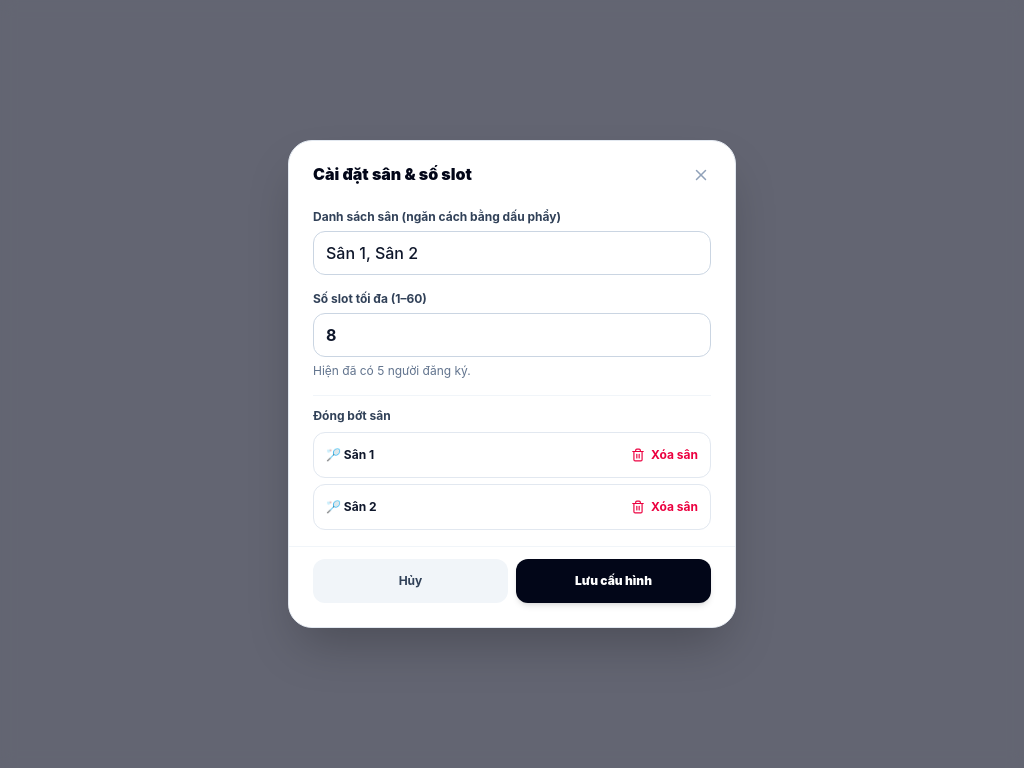
Test: CourtSettingsSheet - ô số slot › từ chối 816 và 0, báo lỗi ngay dưới ô
This screenshot has width=1024, height=768.
Step 1. Replace the text in the field labelled "Số slot tối đa (1–60)" with "816" → (512, 335), box [313,313,711,357]
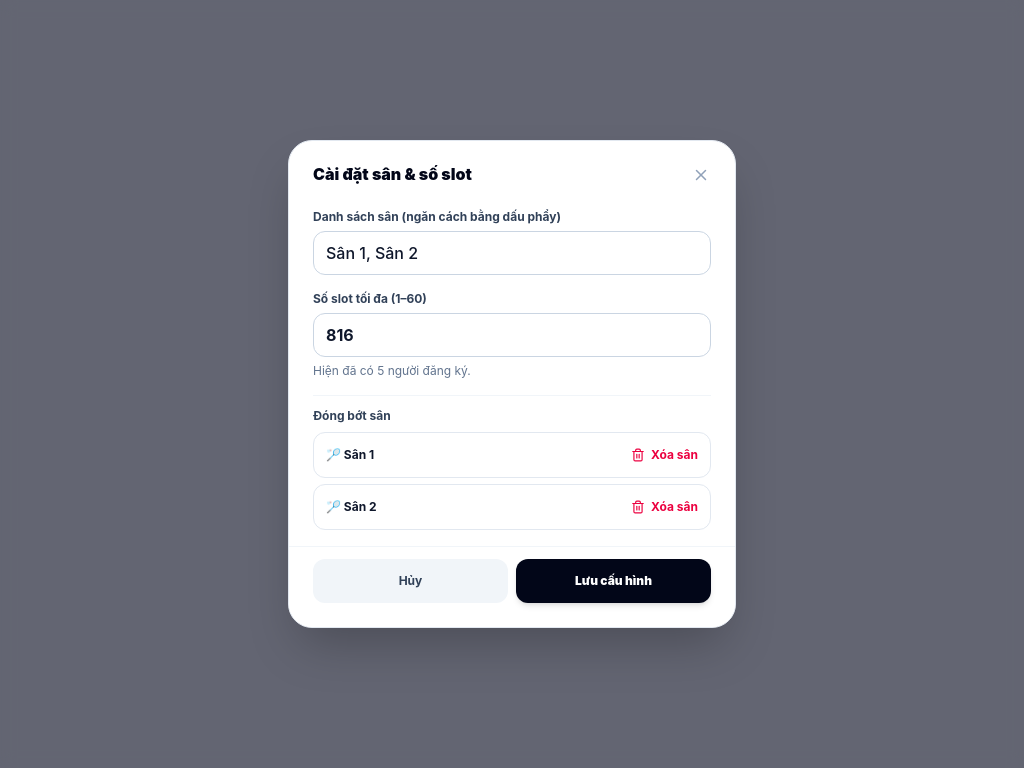
Step 2. Click the button "Lưu cấu hình" → click(614, 581), box [516,559,711,603]
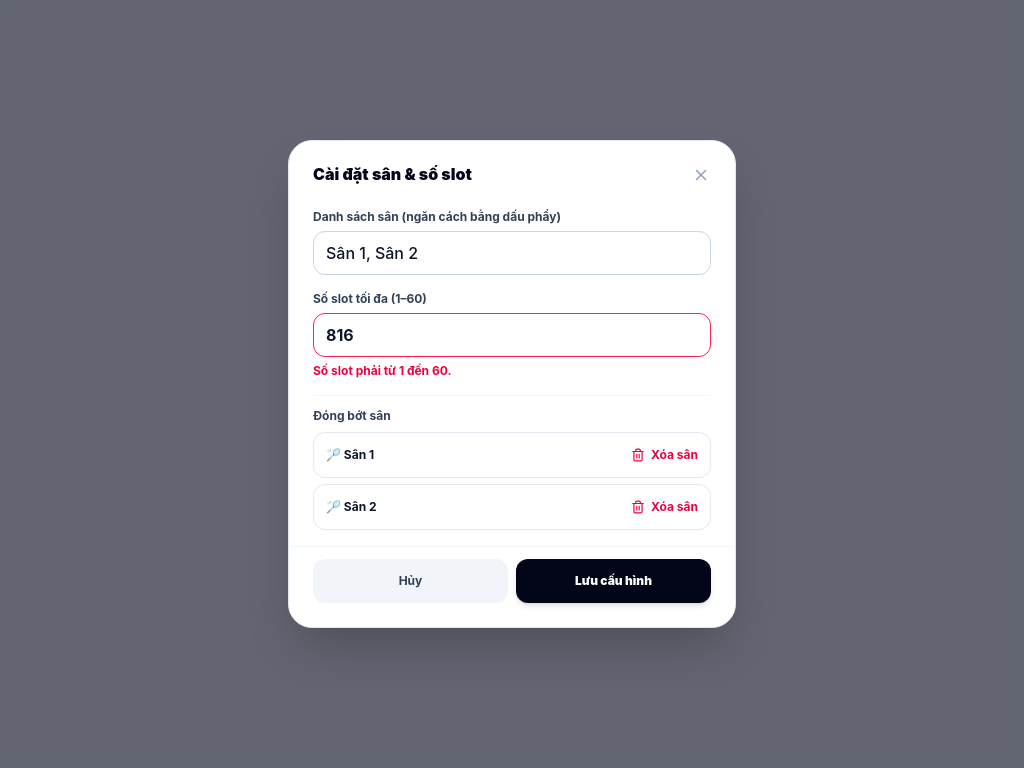
Result: the message reads "Số slot phải từ 1 đến 60." at [313,363,452,378]
Step 3. Replace the text in the field labelled "Số slot tối đa (1–60)" with "0" → (512, 335), box [313,313,711,357]
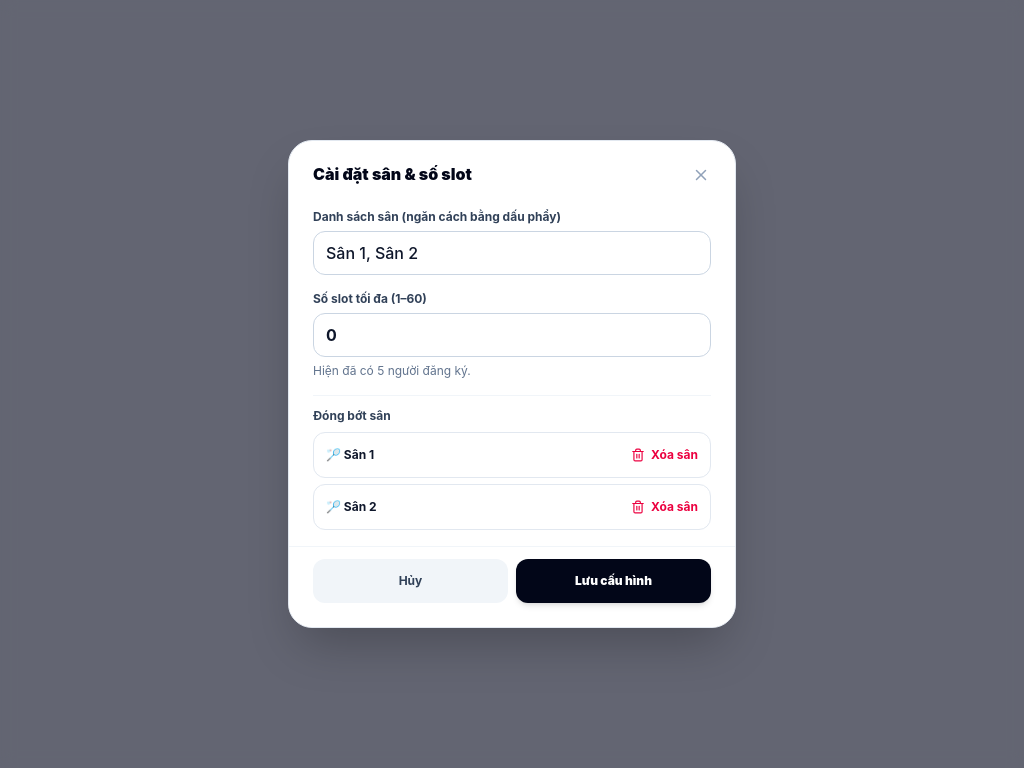
Step 4. Click the button "Lưu cấu hình" → click(614, 581), box [516,559,711,603]
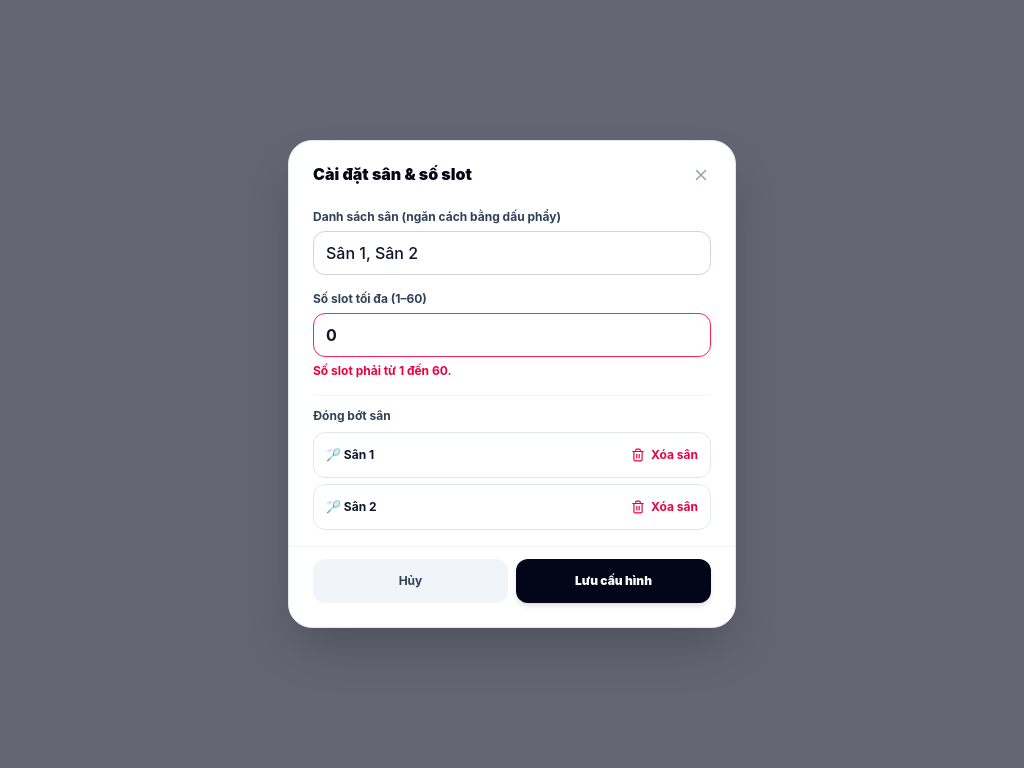
Result: the message reads "Số slot phải từ 1 đến 60." at [313,363,452,378]
